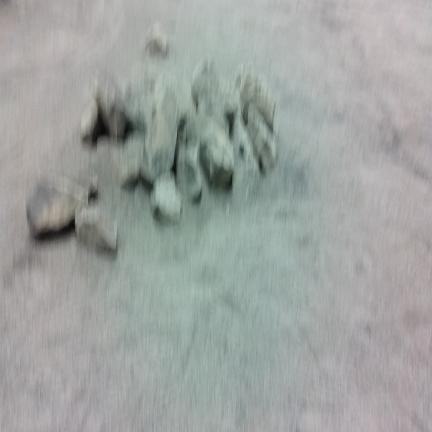Rock: (140, 80, 179, 184), (26, 177, 89, 237), (192, 58, 238, 132), (234, 65, 275, 131), (200, 118, 234, 188), (93, 76, 130, 139), (247, 104, 276, 172), (75, 207, 117, 251), (112, 133, 145, 187), (177, 140, 201, 202), (232, 117, 259, 172), (151, 173, 181, 222), (192, 57, 219, 105), (81, 99, 98, 142), (146, 23, 168, 56), (88, 174, 98, 200)
